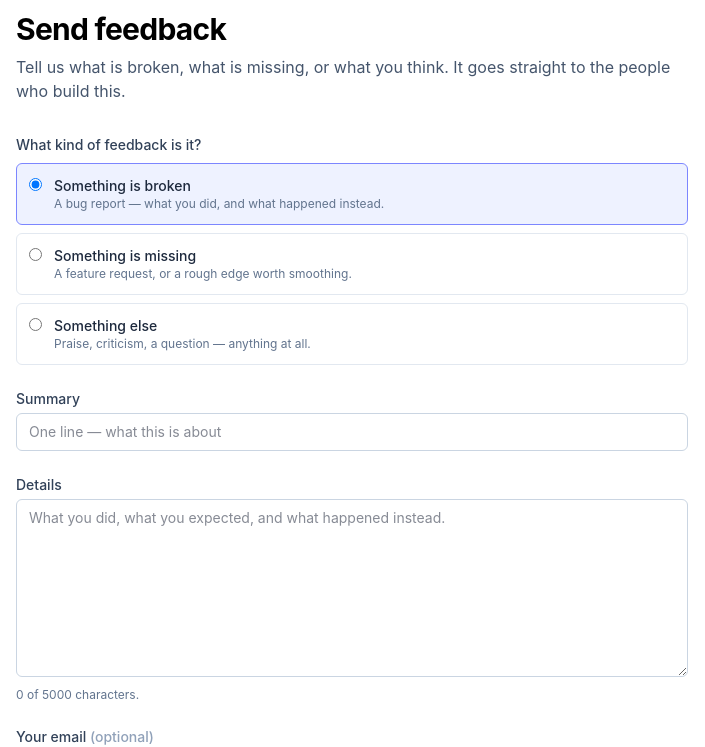
Scenario: FeedbackPage › counts what is left of the message allowance
The width and height of the screenshot is (705, 747).
Type "four" into the text box labelled "Details". click: (352, 588)
box: top-left (16, 499), bottom-right (688, 677)
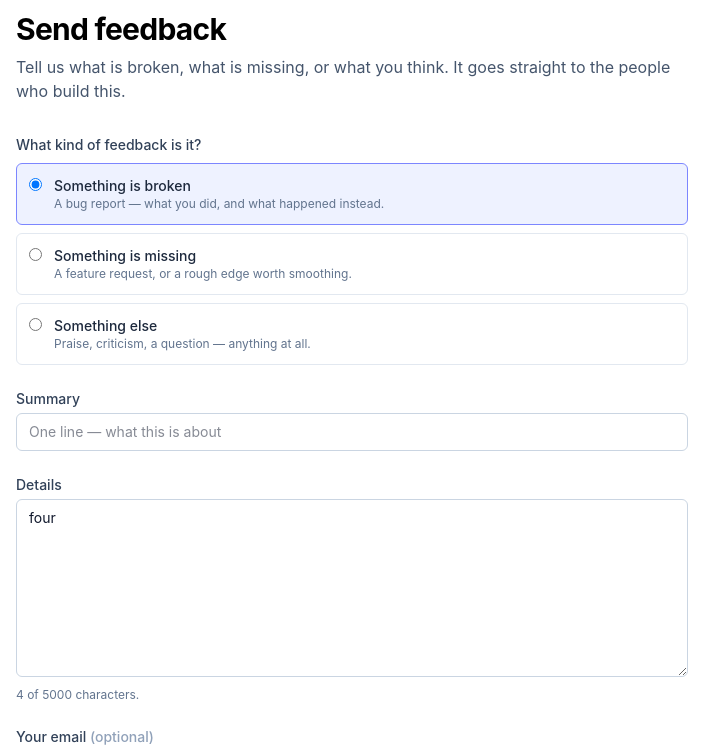
Result: the text "4 of 5000 characters." is shown at top-left (16, 687), bottom-right (139, 702)
